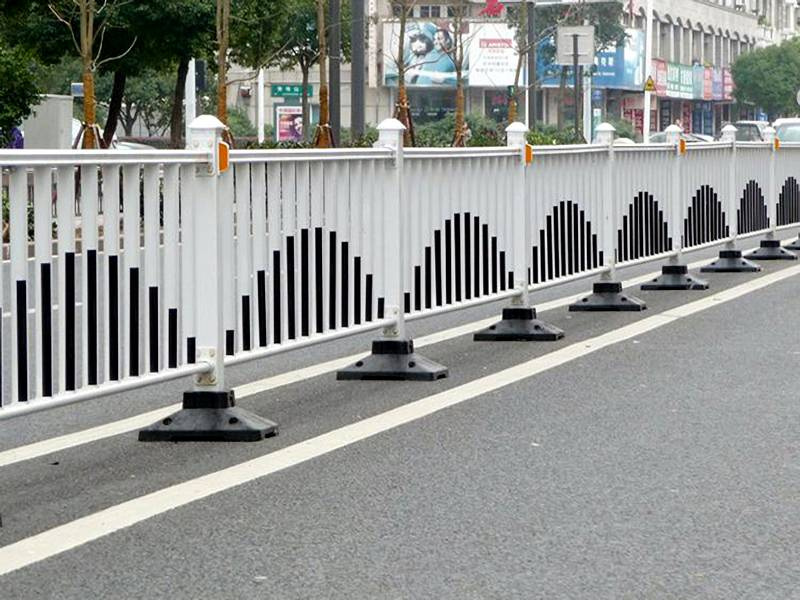Fence: (10, 117, 800, 452)
